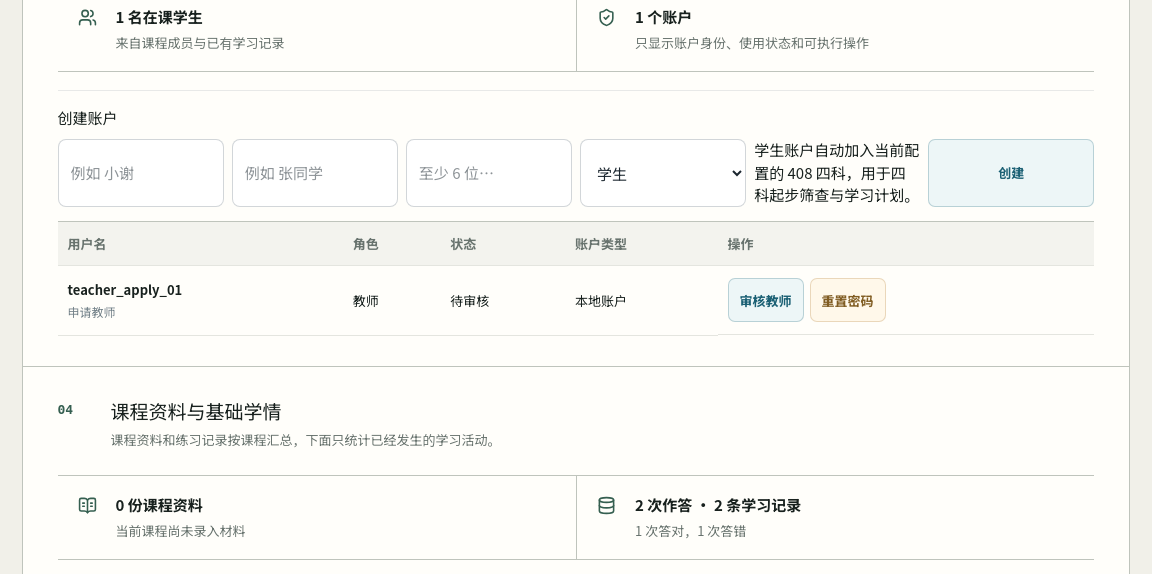
Scenario: AdminEntryPage › submits teacher approval only once while the request is pending
(page scrolled)
Click the button "审核教师": point(766, 300) x1=728 y1=278 x2=804 y2=322
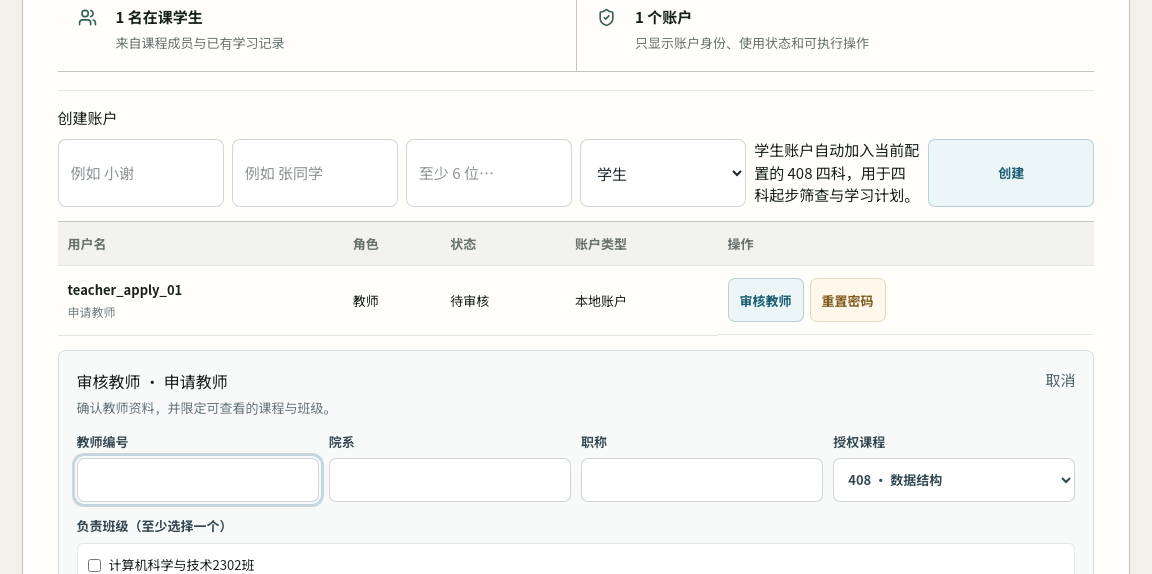
In the field labelled "教师编号": point(198, 480) x1=76 y1=458 x2=319 y2=502, type "T2026001"
In the field labelled "院系": point(450, 480) x1=329 y1=458 x2=571 y2=502, type "计算机科学与技术学院"
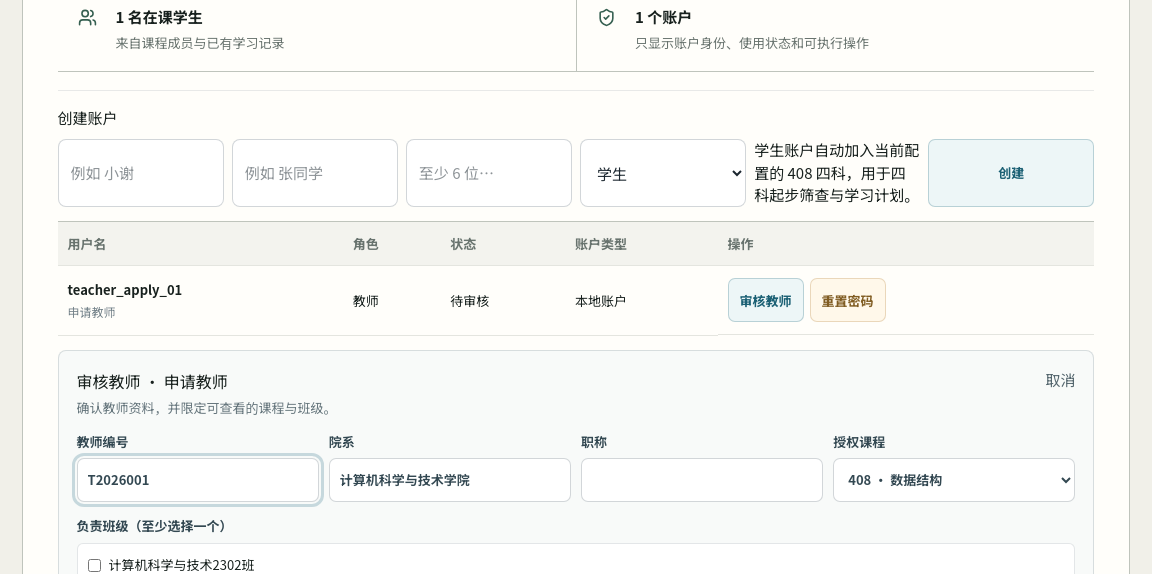
In the field labelled "职称": point(702, 480) x1=581 y1=458 x2=823 y2=502, type "讲师"
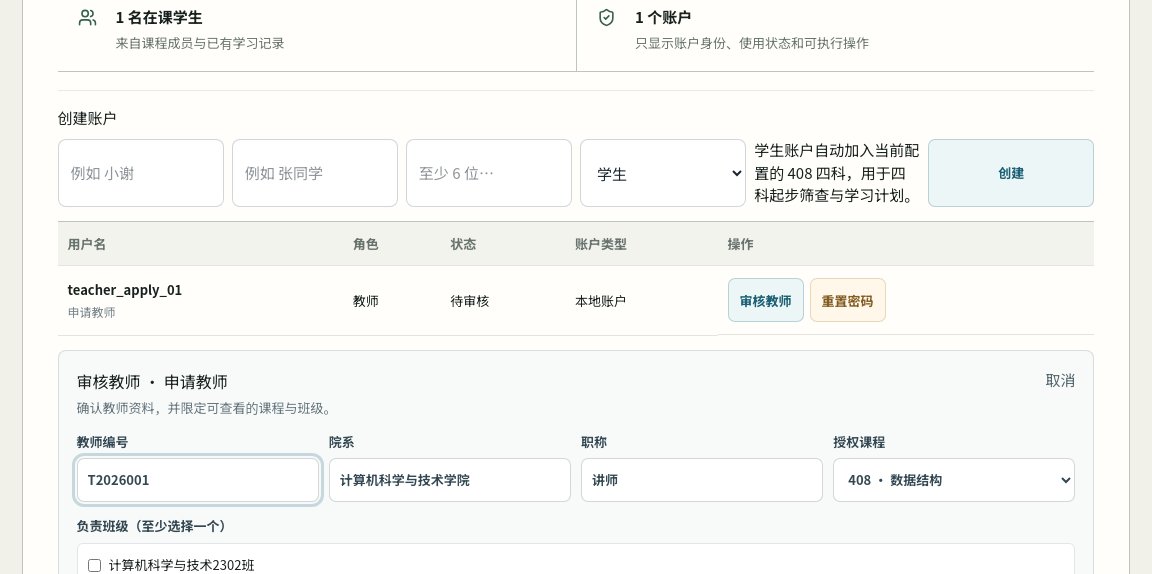
Click the checkbox labelled "计算机科学与技术2302班": point(94, 565) x1=88 y1=559 x2=100 y2=572
(page scrolled)
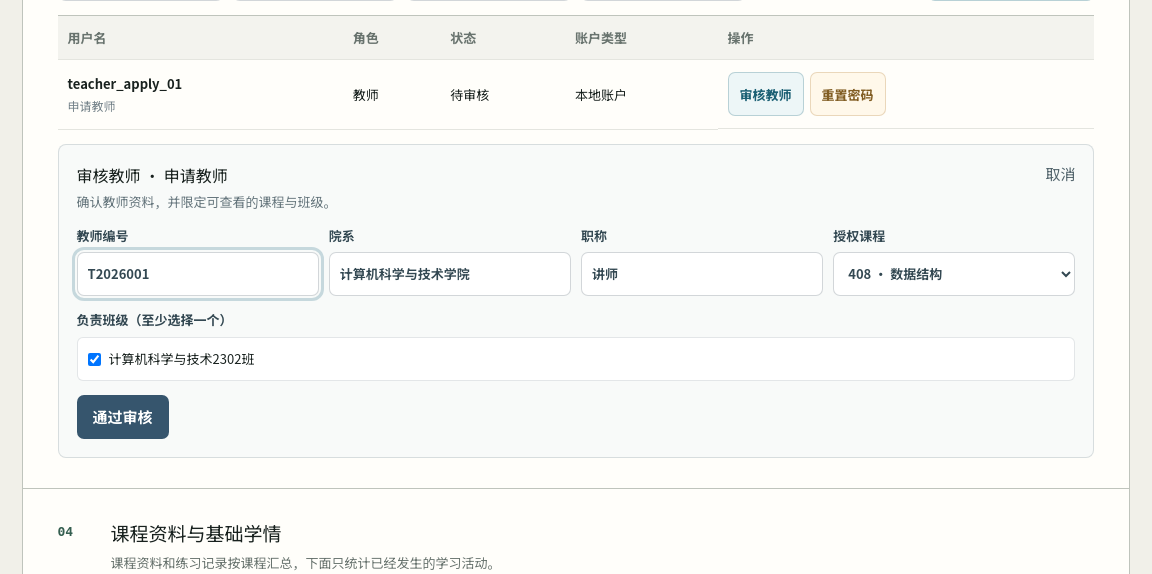
Now the form named "通过审核" is shown
Submit the form named "通过审核", box x1=58 y1=144 x2=1094 y2=458
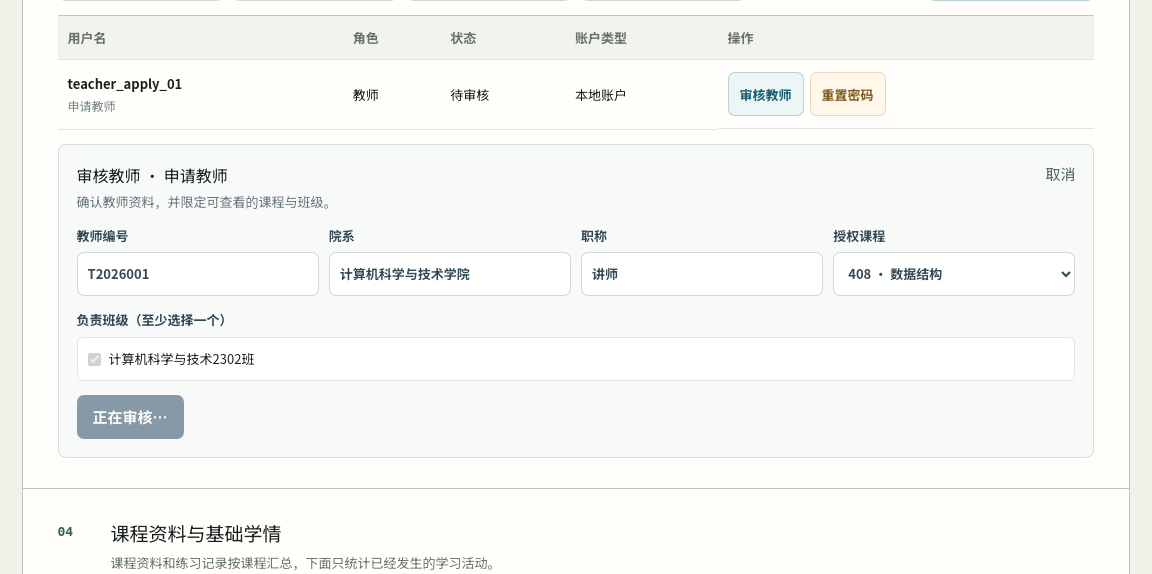
Now the button "正在审核…" is disabled, box x1=76 y1=395 x2=184 y2=439
Submit the form named "通过审核", box x1=58 y1=144 x2=1094 y2=458
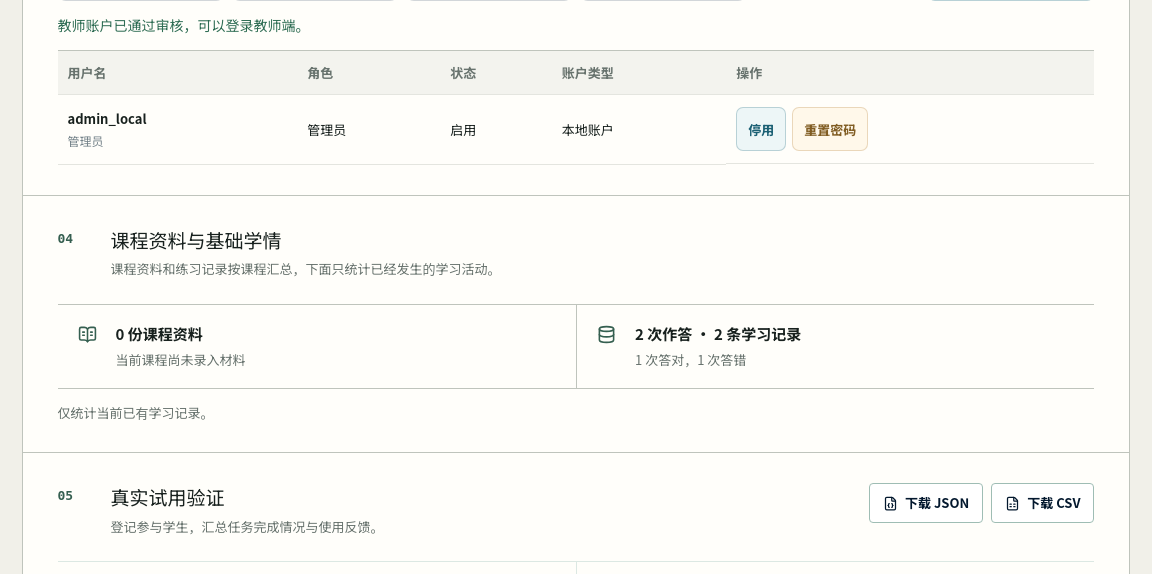
Now the text "教师账户已通过审核，可以登录教师端。" is shown, box x1=58 y1=15 x2=310 y2=35
